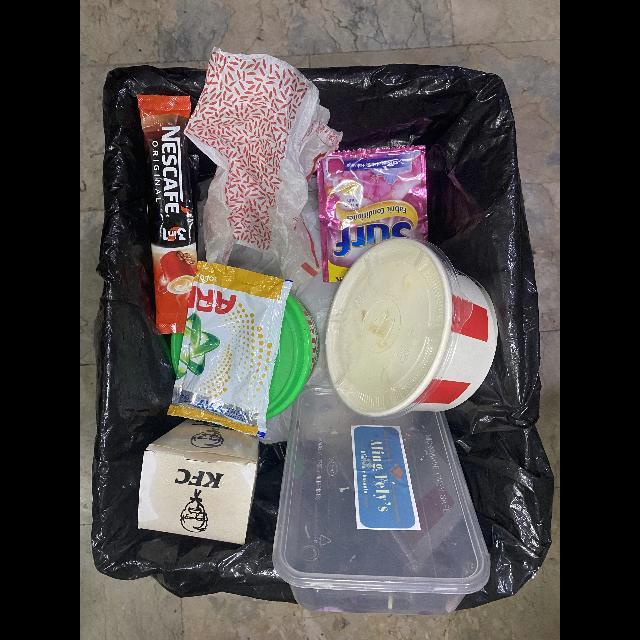cardboard: (184, 47, 343, 260), (324, 238, 500, 417), (138, 420, 259, 546)
plastic_container: (272, 386, 491, 614), (267, 293, 320, 421)
plastic_sachet: (167, 262, 293, 439), (316, 146, 428, 283), (136, 94, 197, 333)
